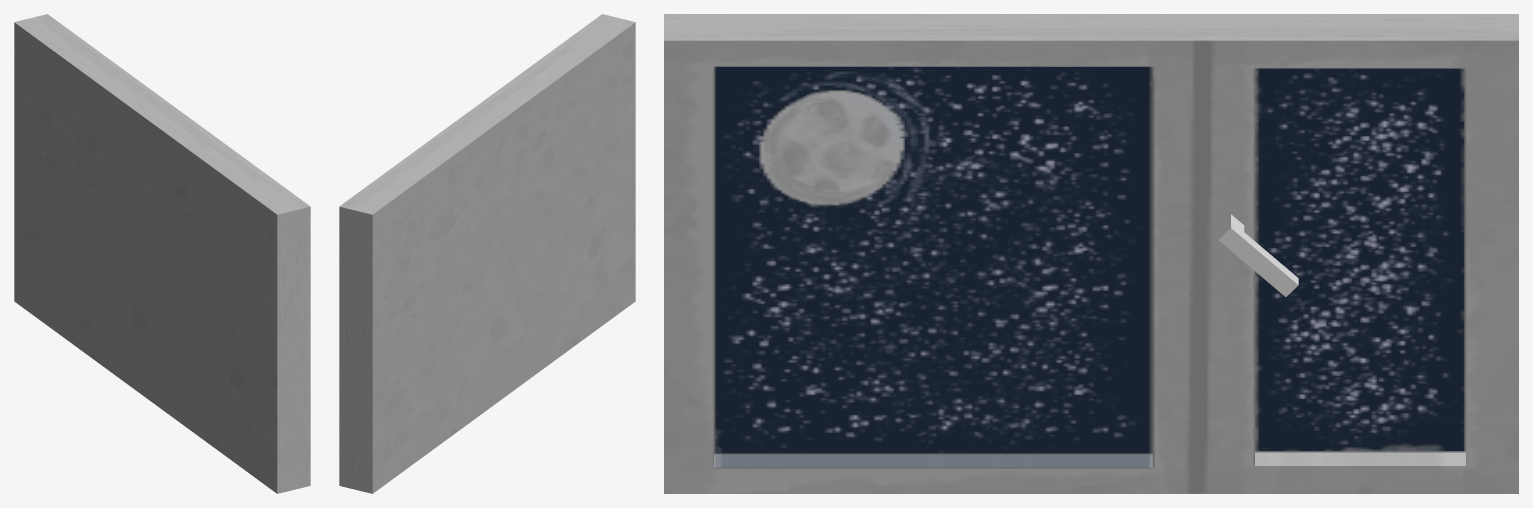
File: fakeaken.glb
3 views of the same model, side by side, from view 1: azimuth 30°, elevation 25°; view 2: azimuth 150°, elevation 25°; view 3: azimuth 270°, elevation 25° (orthographic). The views are drawn at different scales.
Visible parts, largest first — view 1: Cube; view 2: Cube; view 3: Cube, Cube.001.
Part boxes in pixels (box(x1,y1,x2,y2)): Cube: box(14, 14, 310, 493); Cube: box(339, 14, 635, 493); Cube: box(664, 14, 1518, 493); Cube.001: box(1218, 214, 1298, 296).
Bounding box in the file's own units: 1.33 × 6.98 × 11.93.
Materials: 1 (1 with a texture image).
